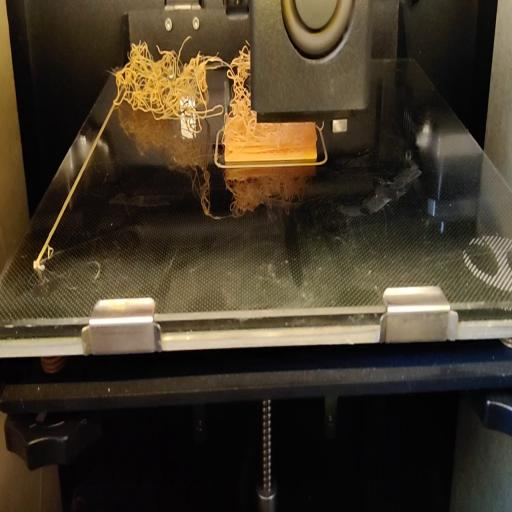spaghetti: (109, 35, 223, 127), (226, 38, 254, 140)
